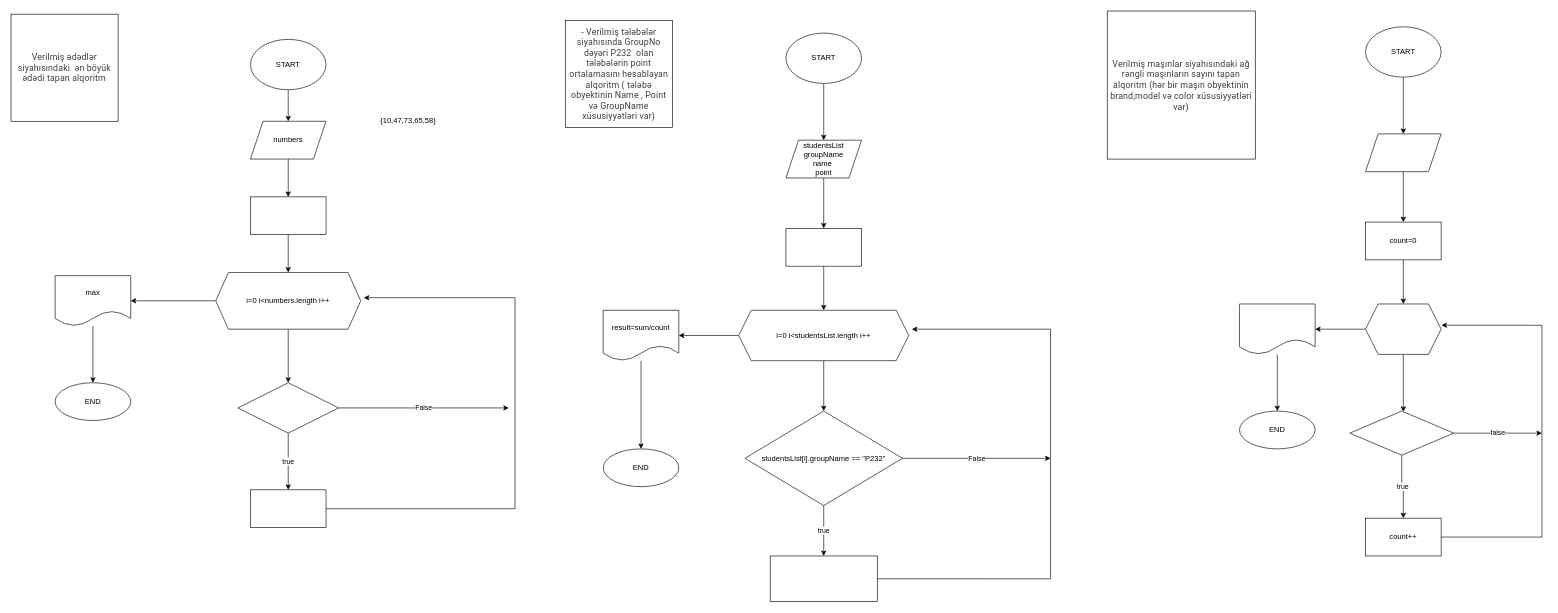
Image size: 1558x613. Some labels were removed from this diagram. Here are the shapes that lost their labels. From the top down, the centre of each, then its label:
(x=1403, y=152): cars brand model color
(x=288, y=215): max=0
(x=823, y=247): count=0 sum=0 result
(x=1277, y=328): count
(x=1403, y=328): i=0 i<cars.length i++
(x=288, y=407): max<numbers[i]
(x=1401, y=432): cars[i].color=="white"
(x=288, y=508): max=numbers[i]
(x=823, y=578): sum+=studentsList[i].point count++
